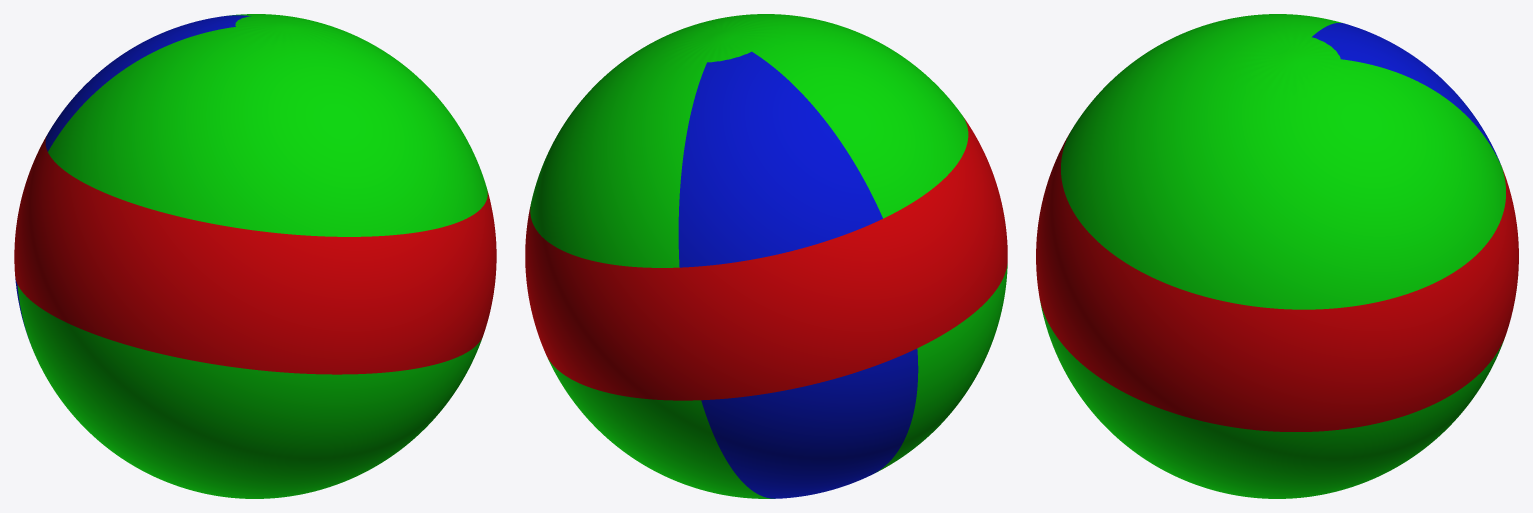
The model's file is Ball.fbx.
3 renders of one model, left to right at view 1: azimuth 30°, elevation 25°; view 2: azimuth 150°, elevation 25°; view 3: azimuth 270°, elevation 25°, orthographic.
Visible parts, largest first — view 1: Sphere; view 2: Sphere; view 3: Sphere.
Part boxes in pixels (bbox=[...]): Sphere: bbox=[14, 14, 496, 498]; Sphere: bbox=[525, 14, 1007, 498]; Sphere: bbox=[1036, 14, 1518, 498].
Size of the model in its own units: 198 by 199 by 197.
